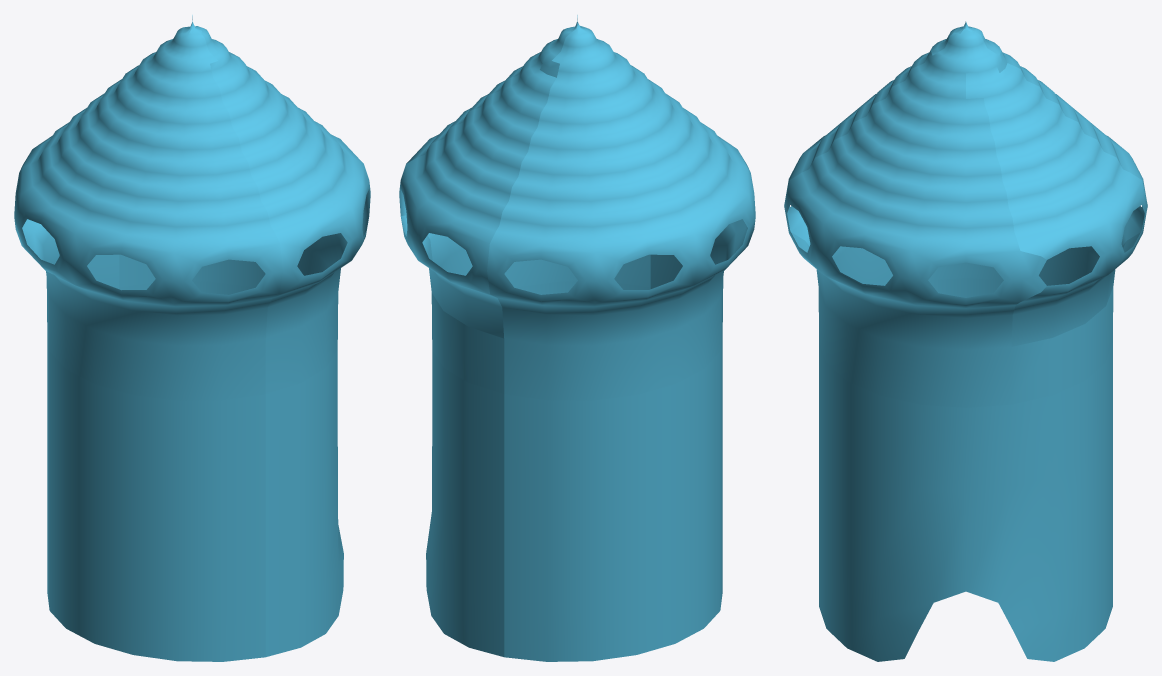
Rendered from Storm Village_Barn.fbx.
3 renders of one model, left to right at view 1: azimuth 30°, elevation 25°; view 2: azimuth 150°, elevation 25°; view 3: azimuth 270°, elevation 25°, orthographic.
Visible parts, largest first — view 1: Big Alarm.001, Big Alarm, Big Alarm.003, Big Alarm.002; view 2: Big Alarm.001, Big Alarm, Big Alarm.002, Big Alarm.004, Big Alarm.003; view 3: Big Alarm.002, Big Alarm.003, Big Alarm.004, Big Alarm.001, Big Alarm.
Part boxes in pixels (x1,y1,x2,y2): Big Alarm.001: [14, 15, 282, 400]; Big Alarm: [47, 287, 265, 661]; Big Alarm.003: [119, 26, 370, 393]; Big Alarm.002: [119, 281, 343, 656]; Big Alarm.001: [487, 15, 755, 400]; Big Alarm: [504, 287, 722, 661]; Big Alarm.002: [426, 281, 650, 656]; Big Alarm.004: [400, 54, 556, 338]; Big Alarm.003: [399, 26, 650, 393]; Big Alarm.002: [819, 343, 1112, 661]; Big Alarm.003: [784, 29, 1113, 407]; Big Alarm.004: [966, 63, 1147, 346]; Big Alarm.001: [784, 21, 1146, 285]; Big Alarm: [928, 278, 1003, 297].
Size of the model in its own units: 1608 by 3016 by 1663.
